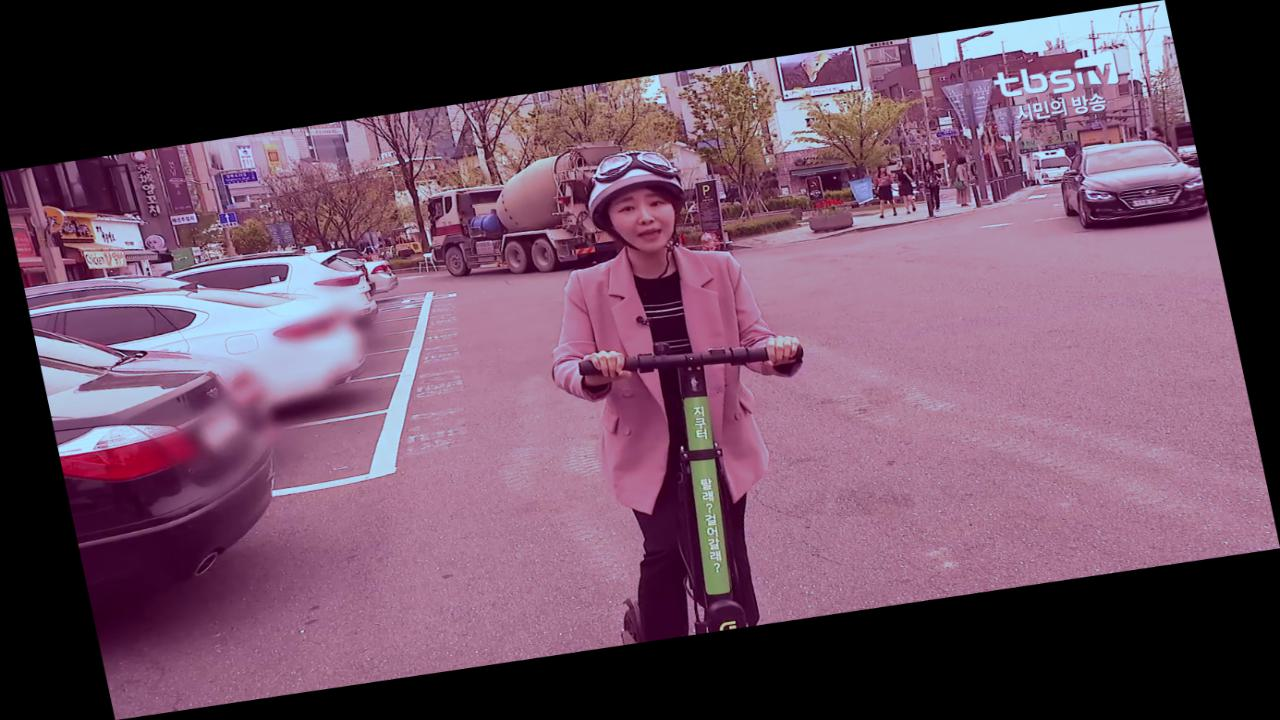helmet: (505, 129, 863, 648)
